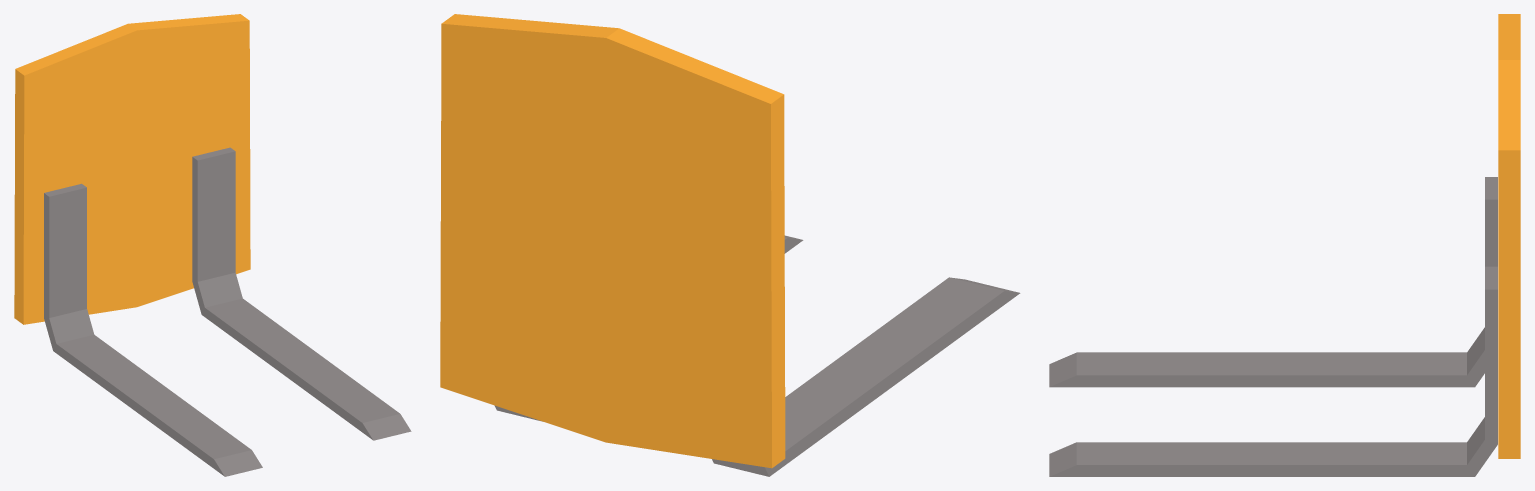
Rendered from lift.glb.
The picture shows the model from 3 angles, left to right: view 1: azimuth 30°, elevation 25°; view 2: azimuth 150°, elevation 25°; view 3: azimuth 270°, elevation 25°; orthographic projection. The views are drawn at different scales.
Parts seen in each view (by area): view 1: lift; view 2: lift; view 3: lift.
Boxes of the visible parts, bbox=[...] form: lift: bbox=[14, 14, 411, 476]; lift: bbox=[440, 14, 1020, 476]; lift: bbox=[1049, 14, 1520, 476].
Bounding box in the file's own units: 1.03 × 1.26 × 1.5.
Materials: 1 (1 with a texture image).
